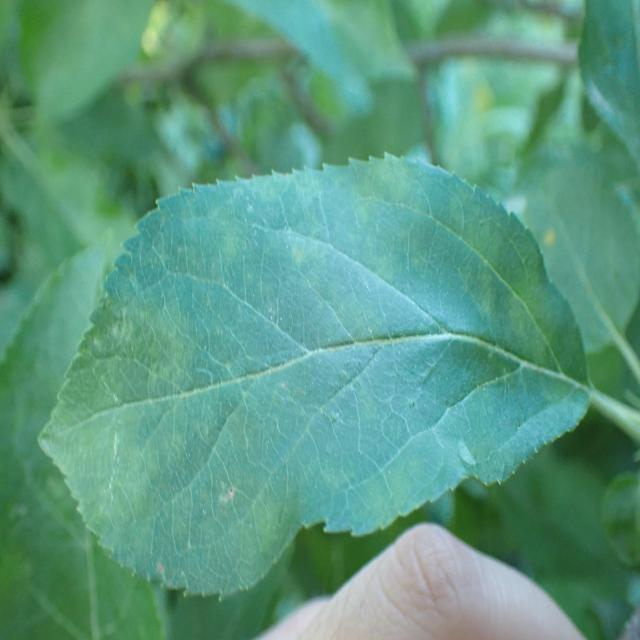scab: (86, 195, 557, 489)
